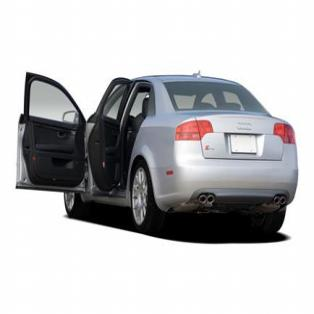Auto: (9, 68, 301, 232)
